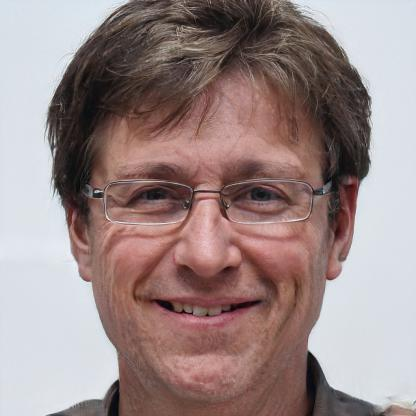glasses: (78, 178, 331, 230)
